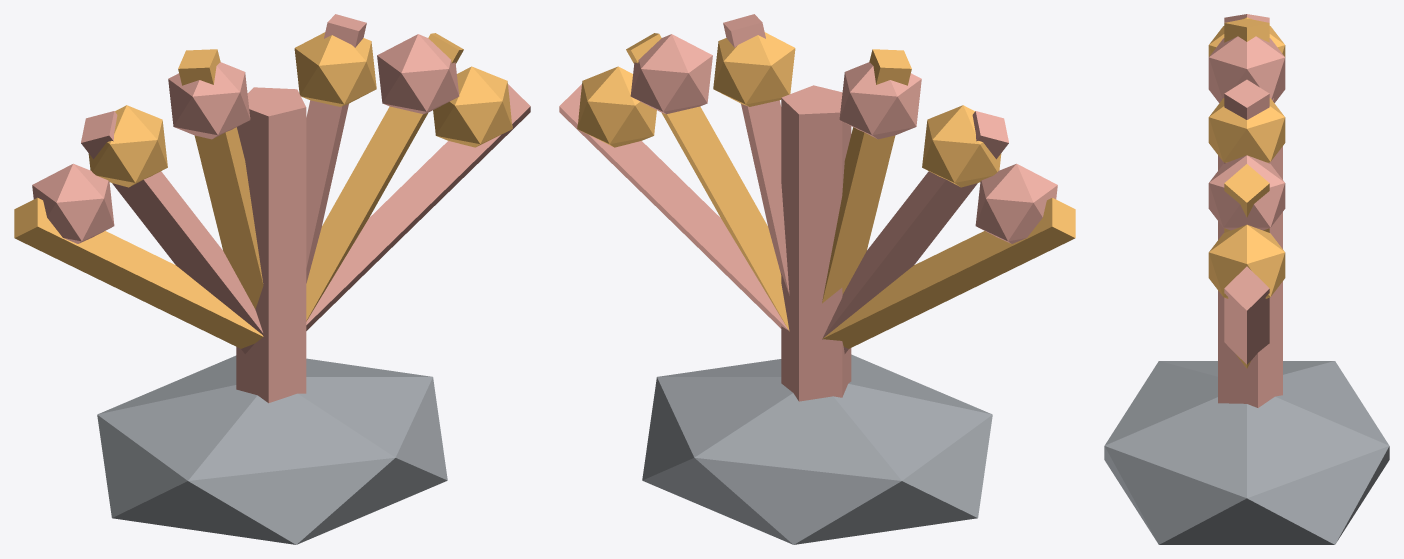
File: coral_fan.glb
3 renders of one model, left to right at view 1: azimuth 30°, elevation 25°; view 2: azimuth 150°, elevation 25°; view 3: azimuth 270°, elevation 25°, orthographic. The views are drawn at different scales.
Visible parts, largest first — view 1: base.001, stem, branch_0, branch_1, branch_5, branch_4, branch_2, branch_3, polyp_4, polyp_3, polyp_5, polyp_0 (+2 smaller); view 2: base.001, stem, branch_0, branch_1, branch_5, branch_4, branch_2, branch_3, polyp_4, polyp_3, polyp_5, polyp_0 (+2 smaller); view 3: base.001, stem, polyp_5, polyp_2, polyp_3, branch_5, polyp_4, branch_4, branch_3, branch_2, polyp_1.
Part boxes in pixels (x1,y1,x2,y2): base.001: (97, 355, 447, 544); stem: (236, 87, 306, 403); branch_0: (14, 197, 263, 348); branch_1: (81, 111, 263, 353); branch_5: (306, 84, 530, 330); branch_4: (306, 33, 463, 321); branch_2: (178, 49, 263, 308); branch_3: (306, 14, 366, 283); polyp_4: (377, 34, 459, 114); polyp_3: (294, 32, 376, 106); polyp_5: (433, 66, 512, 147); polyp_0: (32, 163, 114, 243); base.001: (642, 354, 992, 544); stem: (781, 85, 851, 401); branch_0: (822, 197, 1075, 348); branch_1: (822, 111, 1008, 353); branch_5: (559, 84, 788, 330); branch_4: (626, 33, 789, 331); branch_2: (822, 49, 911, 303); branch_3: (723, 14, 789, 295); polyp_4: (630, 34, 712, 114); polyp_3: (713, 32, 795, 106); polyp_5: (577, 66, 656, 147); polyp_0: (975, 163, 1057, 243); base.001: (1104, 361, 1389, 544); stem: (1218, 146, 1282, 407); polyp_5: (1208, 224, 1285, 298); polyp_2: (1208, 36, 1285, 99); polyp_3: (1208, 98, 1285, 162); branch_5: (1224, 266, 1269, 364); polyp_4: (1208, 155, 1285, 230); branch_4: (1224, 164, 1269, 368); branch_3: (1224, 79, 1269, 163); branch_2: (1224, 18, 1269, 42); polyp_1: (1208, 17, 1285, 56).
Bounding box in the file's own units: 0.9661 × 0.8624 × 0.4764.
